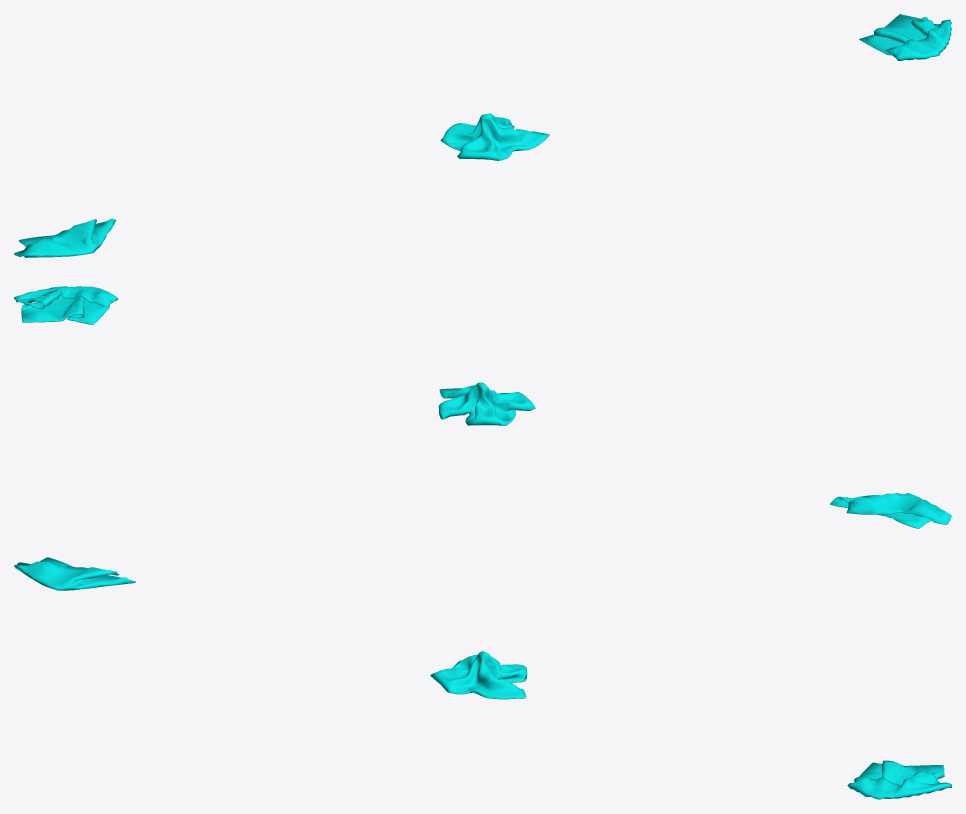
The model's file is cloths_grp.fbx.
3 renders of one model, top to bottom at view 1: azimuth 30°, elevation 25°; view 2: azimuth 150°, elevation 25°; view 3: azimuth 330°, elevation 25°, orthographic.
Visible parts, largest first — view 1: cloth_2, cloth_3, cloth_1; view 2: cloth_3, cloth_2, cloth_1; view 3: cloth_2, cloth_3, cloth_1.
Part boxes in pixels (box(x1,y1,x2,y2)): cloth_2: box(440, 113, 549, 160); cloth_3: box(859, 14, 951, 60); cloth_1: box(14, 218, 116, 257); cloth_3: box(14, 286, 118, 324); cloth_2: box(438, 382, 535, 425); cloth_1: box(830, 493, 951, 528); cloth_2: box(430, 651, 527, 699); cloth_3: box(847, 760, 951, 799); cloth_1: box(14, 557, 135, 590).
Bounding box in the file's own units: 223 × 6.15 × 21.88.
